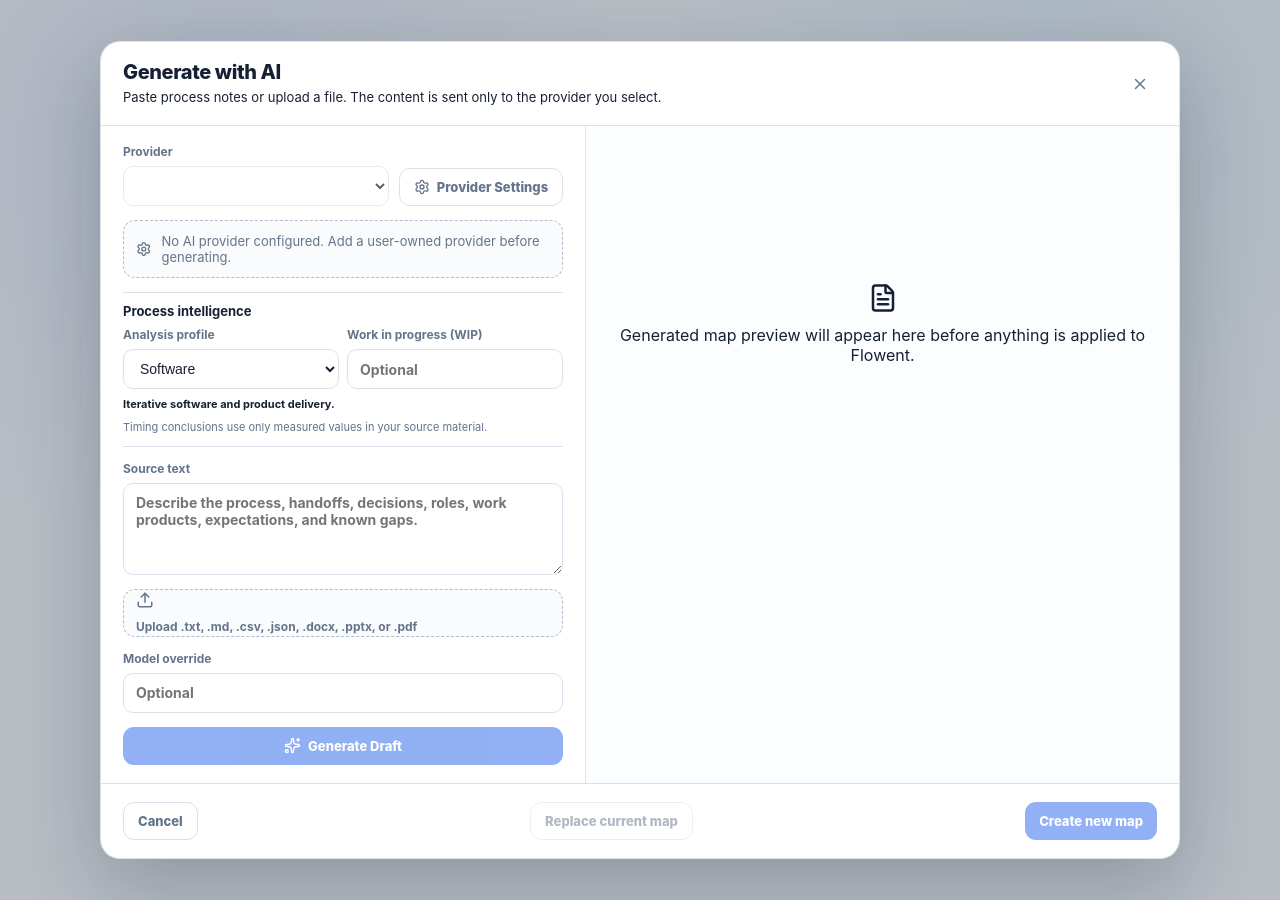
Test: AIGenerateModal › offers the development industry pack in grouped profiles and explains the selected profile
Select "Automotive Development" in the dropdown labelled "Analysis profile" at {"x": 231, "y": 369}, box 123,349 -> 339,389
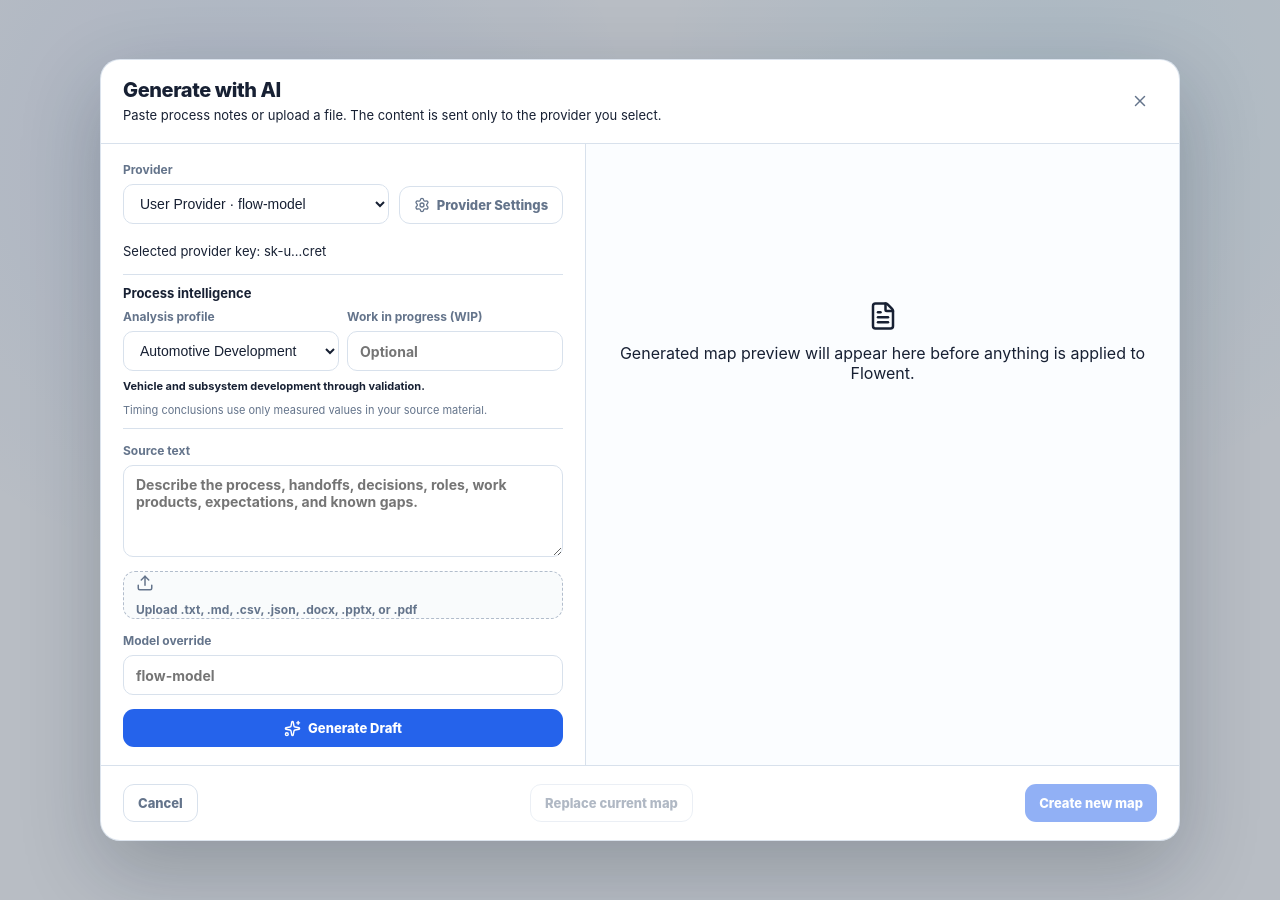
Now the text "Vehicle and subsystem development through validation." is shown, box 123,380 -> 425,394
